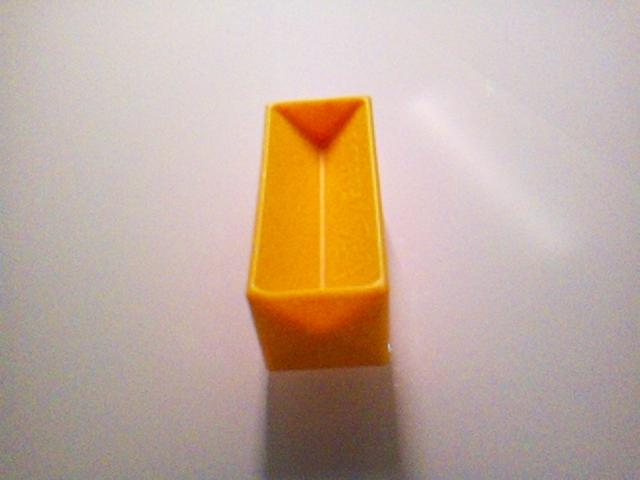yellow: (245, 94, 393, 373)
